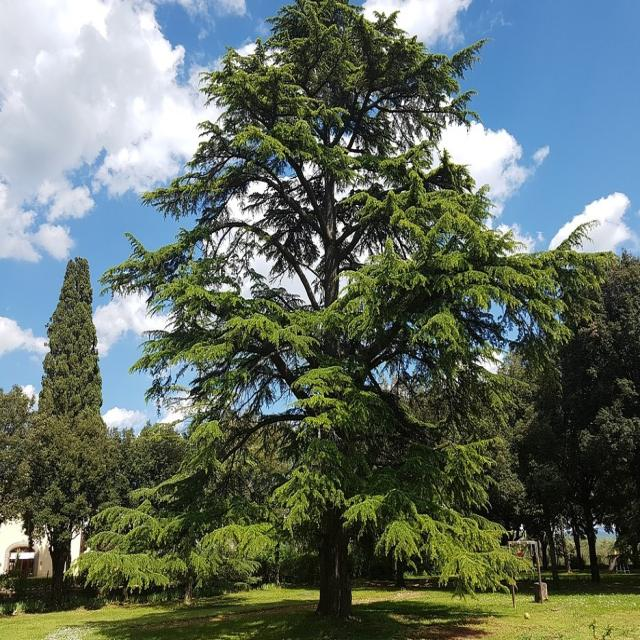cedro: (77, 0, 591, 615)
